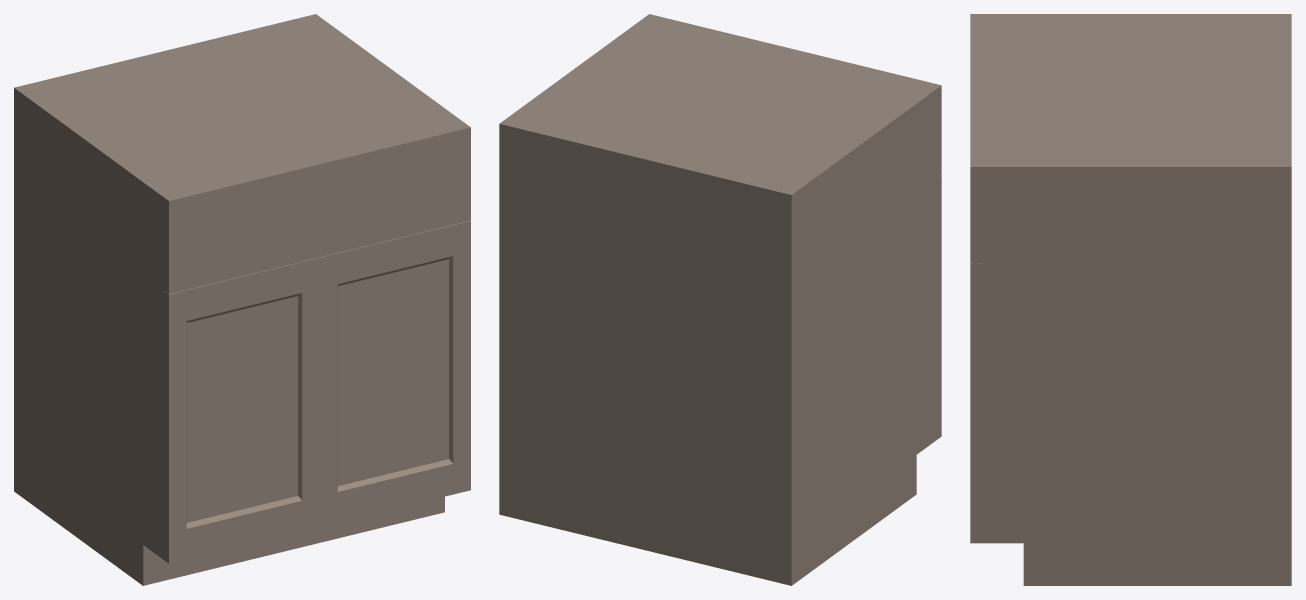
The model's file is Base-Cabinet-Double-Door-One-Drawer-24-Deep_std_001_W27in.glb.
3 views of the same model, side by side, from view 1: azimuth 30°, elevation 25°; view 2: azimuth 150°, elevation 25°; view 3: azimuth 270°, elevation 25° (orthographic). The views are drawn at different scales.
Visible parts, largest first — view 1: Base-Cabinet-Double-Door-One-Drawer-24-Deep.std.001_W27in; view 2: Base-Cabinet-Double-Door-One-Drawer-24-Deep.std.001_W27in; view 3: Base-Cabinet-Double-Door-One-Drawer-24-Deep.std.001_W27in.
Part boxes in pixels (x1,y1,x2,y2): Base-Cabinet-Double-Door-One-Drawer-24-Deep.std.001_W27in: [14, 14, 470, 585]; Base-Cabinet-Double-Door-One-Drawer-24-Deep.std.001_W27in: [499, 14, 941, 585]; Base-Cabinet-Double-Door-One-Drawer-24-Deep.std.001_W27in: [970, 14, 1291, 585].
Size of the model in its own units: 0.6858 by 0.8763 by 0.6096.
